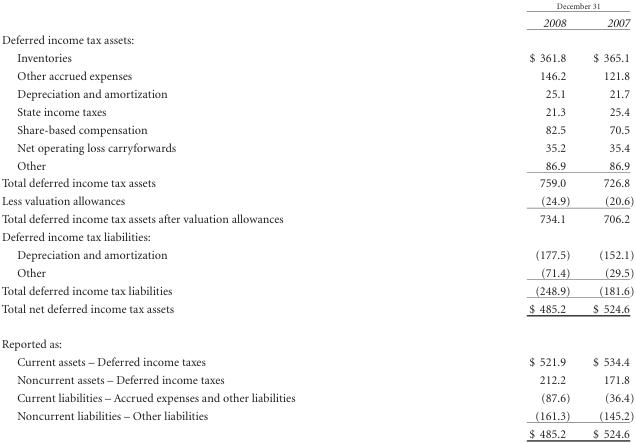table: (0, 0, 633, 439)
table column: (0, 0, 411, 439), (411, 0, 580, 439), (580, 0, 633, 439)
table column header: (0, 0, 633, 31)
table projected row header: (0, 326, 633, 352), (0, 227, 633, 245), (0, 31, 633, 48)
table row: (0, 299, 633, 326), (0, 326, 633, 352), (0, 12, 633, 31), (0, 48, 633, 66), (0, 66, 633, 84), (0, 84, 633, 102), (0, 102, 633, 120), (0, 120, 633, 138), (0, 138, 633, 156), (0, 156, 633, 174), (0, 174, 633, 192), (0, 209, 633, 227), (0, 227, 633, 245), (0, 245, 633, 263), (0, 263, 633, 281), (0, 281, 633, 299), (0, 352, 633, 370), (0, 370, 633, 388), (0, 388, 633, 406), (0, 406, 633, 424), (0, 31, 633, 48), (0, 192, 633, 209), (0, 424, 633, 439), (0, 0, 633, 12)
table spanning cell: (411, 0, 633, 12)
